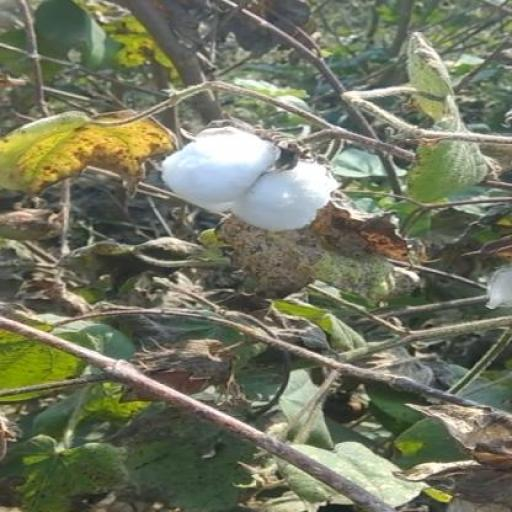cotton_ready: (141, 118, 345, 234)
